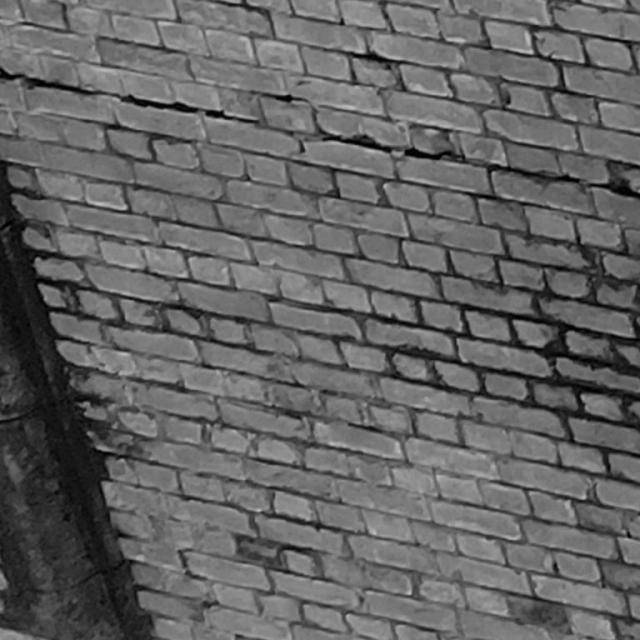crack: (2, 67, 639, 196)
